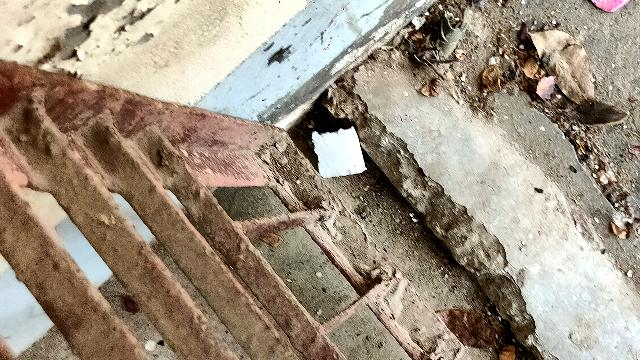cocksheet: (303, 115, 371, 185)
